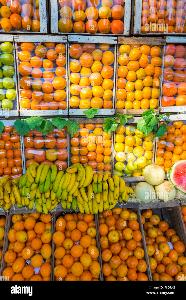banana: (0, 164, 136, 214)
melon: (131, 162, 186, 204)
orange: (18, 32, 68, 112), (117, 42, 165, 114), (143, 200, 186, 279), (70, 39, 118, 108), (7, 211, 52, 283), (56, 209, 101, 281), (101, 206, 142, 284), (113, 118, 157, 178), (69, 122, 115, 174), (23, 118, 69, 168), (137, 0, 186, 35), (163, 38, 186, 110), (0, 0, 42, 34), (157, 119, 186, 167), (0, 124, 24, 178)
